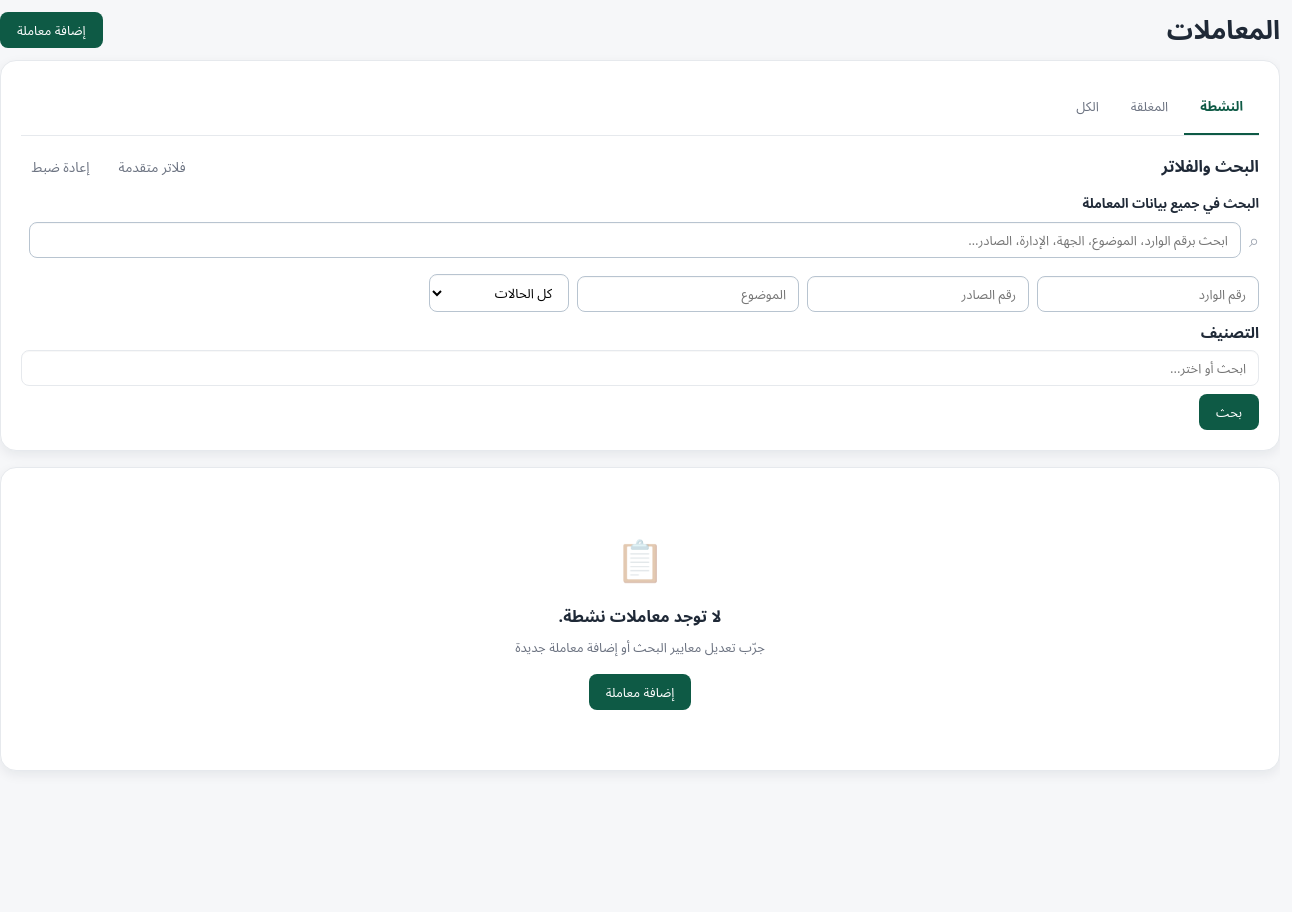
Test: TransactionsList › sends all statusScope when the all tab is selected
The image size is (1292, 912).
Check: the text "لا توجد معاملات نشطة." is shown, box [559,605,721,627]
Step 1. Click the tab "الكل" → (1088, 108), box [1060,81,1115,135]
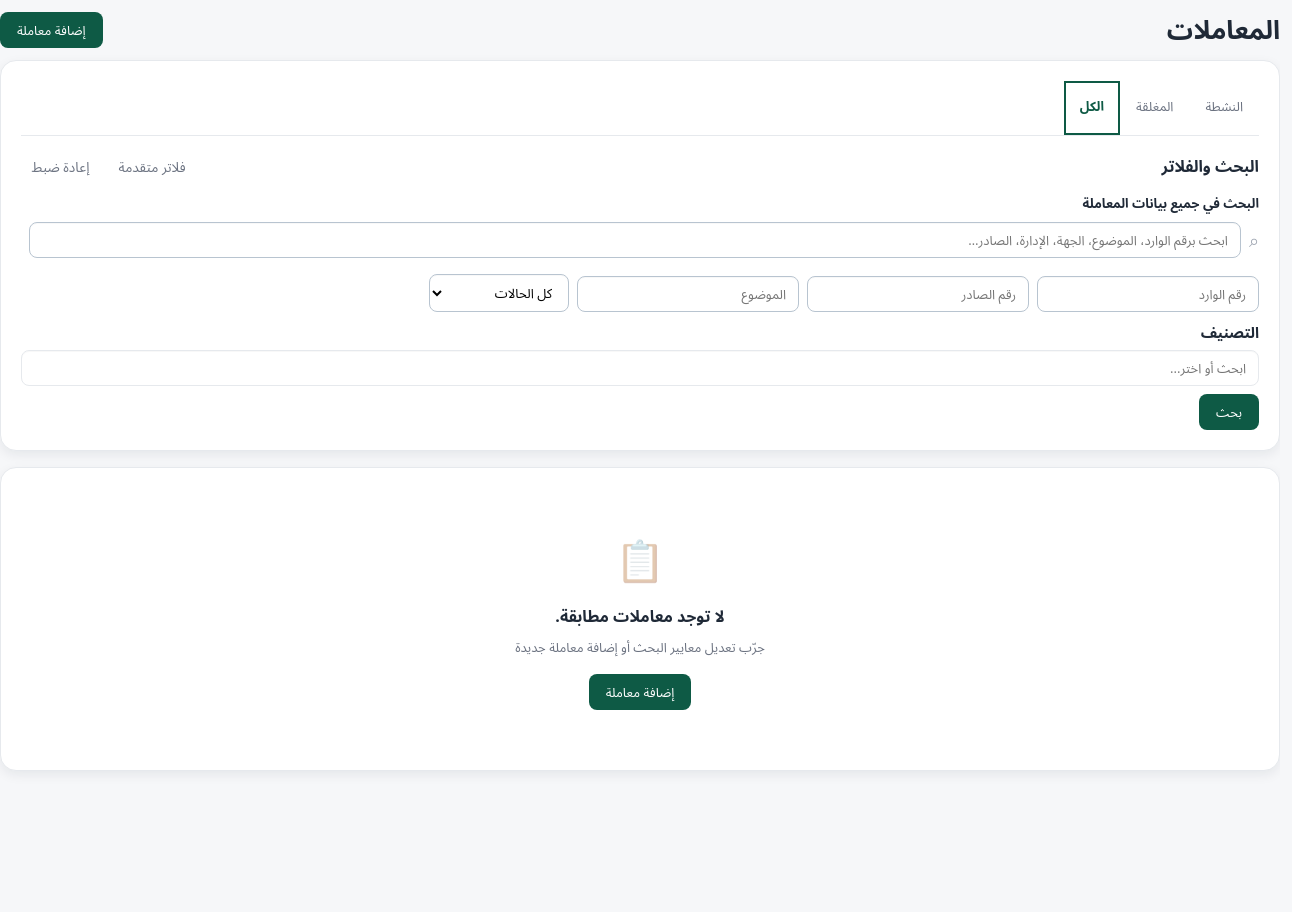
Check: the text "لا توجد معاملات مطابقة." is shown, box [555,605,725,627]
